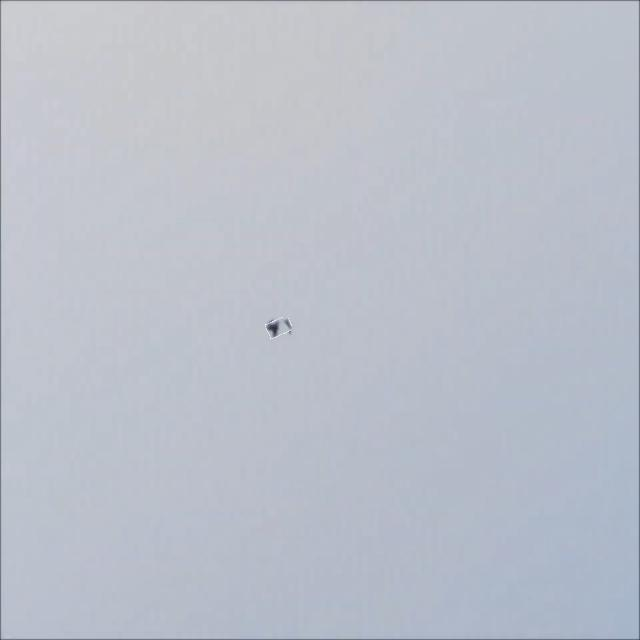UAV: (266, 304, 306, 362)
